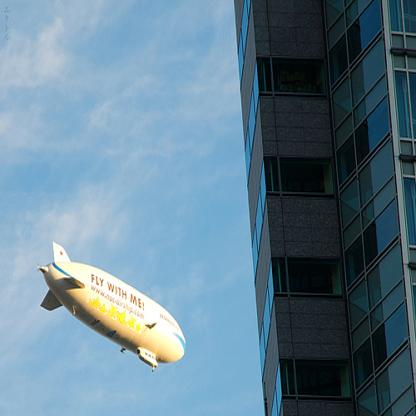Airship: (36, 238, 188, 371)
